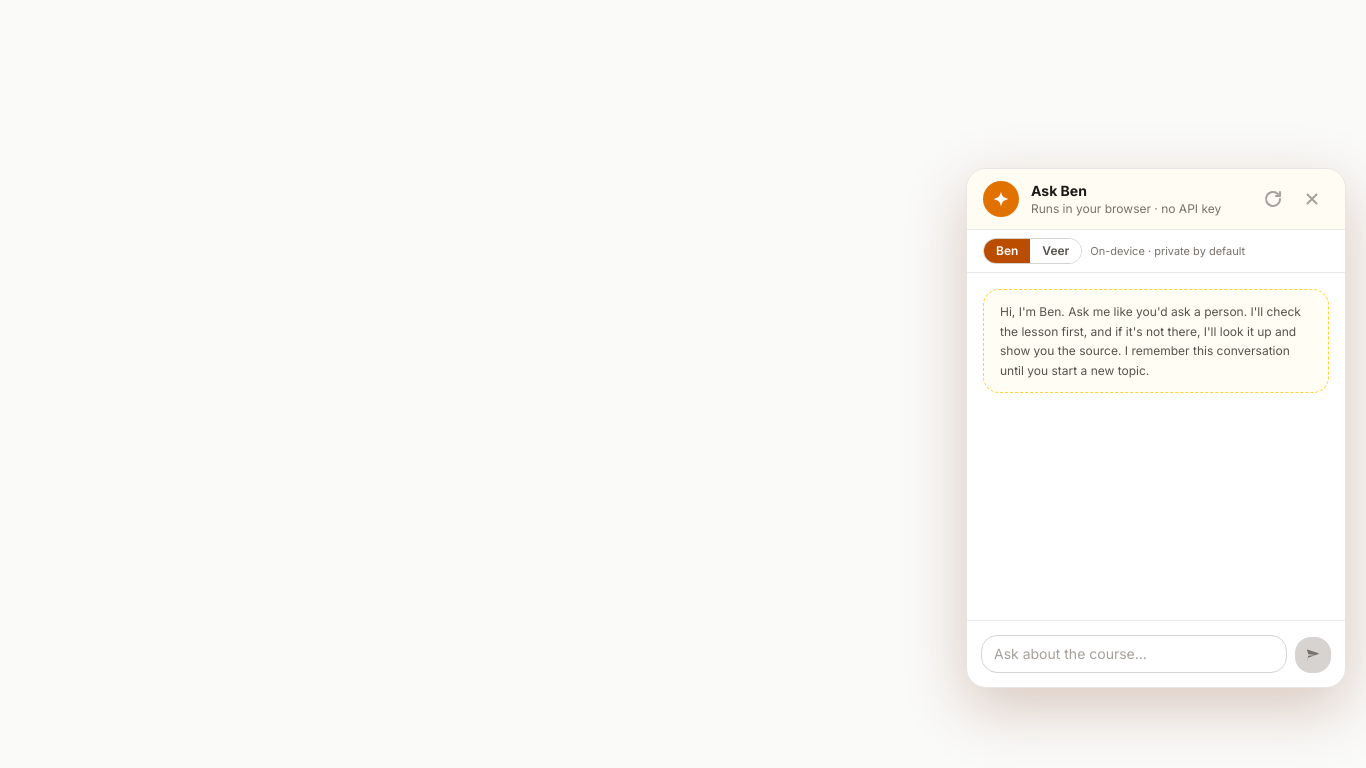
Scenario: QaChatPanel Veer port (Manifest 2) › widget visibly indicates Ben vs Veer mode before the student sends
Click the button with aria-label "Ask Veer".
click(1056, 251)  # box [1030,239,1081,263]
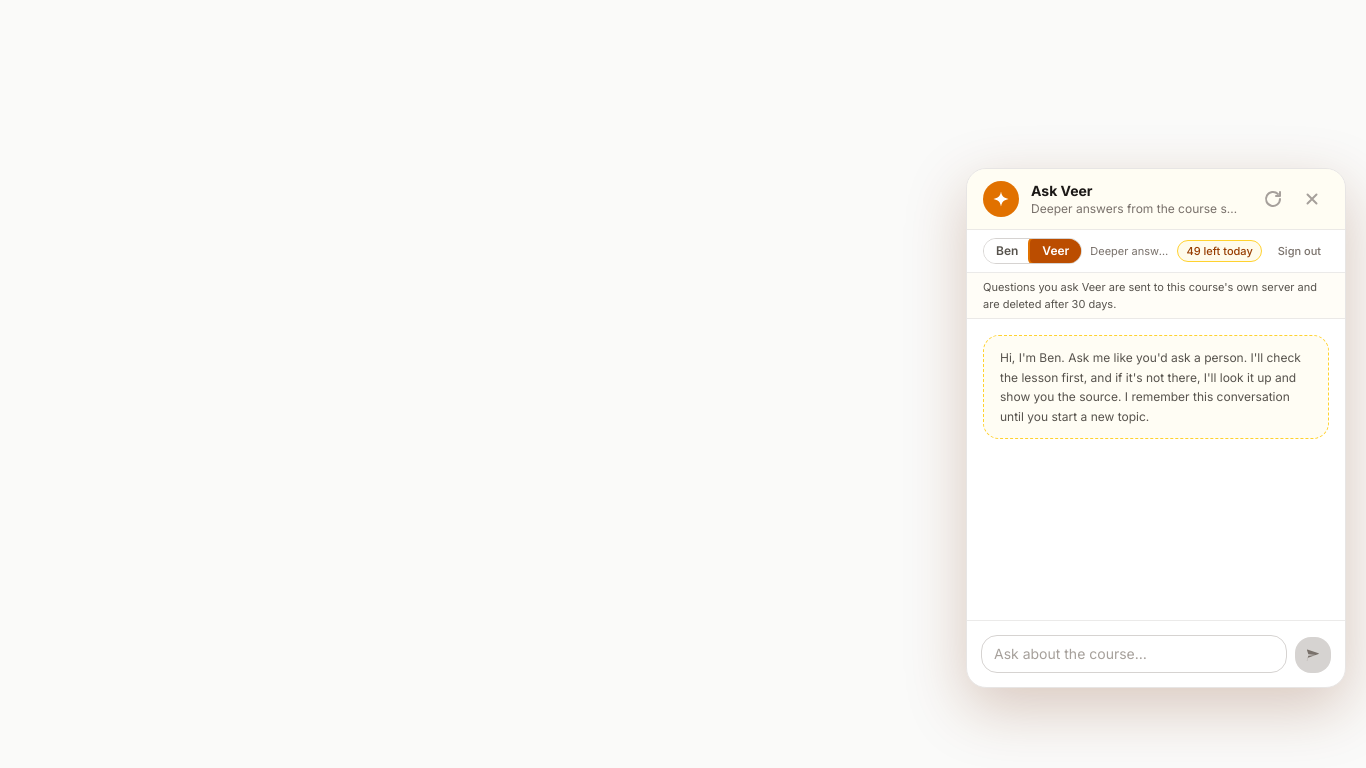
Expected: the text "Questions you ask Veer are sent to this course's own server and are deleted after 30 days." is shown, [983,280,1317,310]
